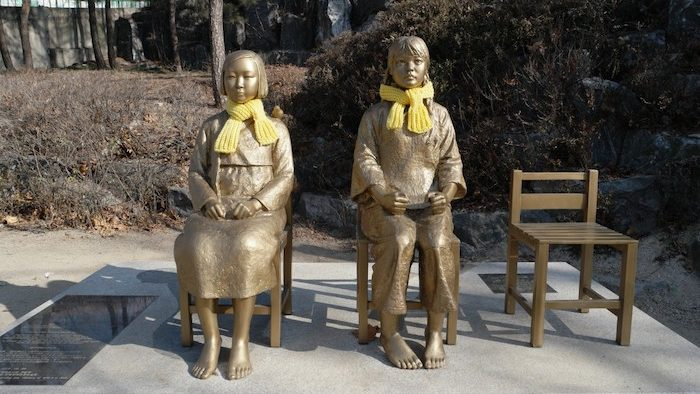person-like: (169, 45, 300, 383), (346, 32, 470, 374)
